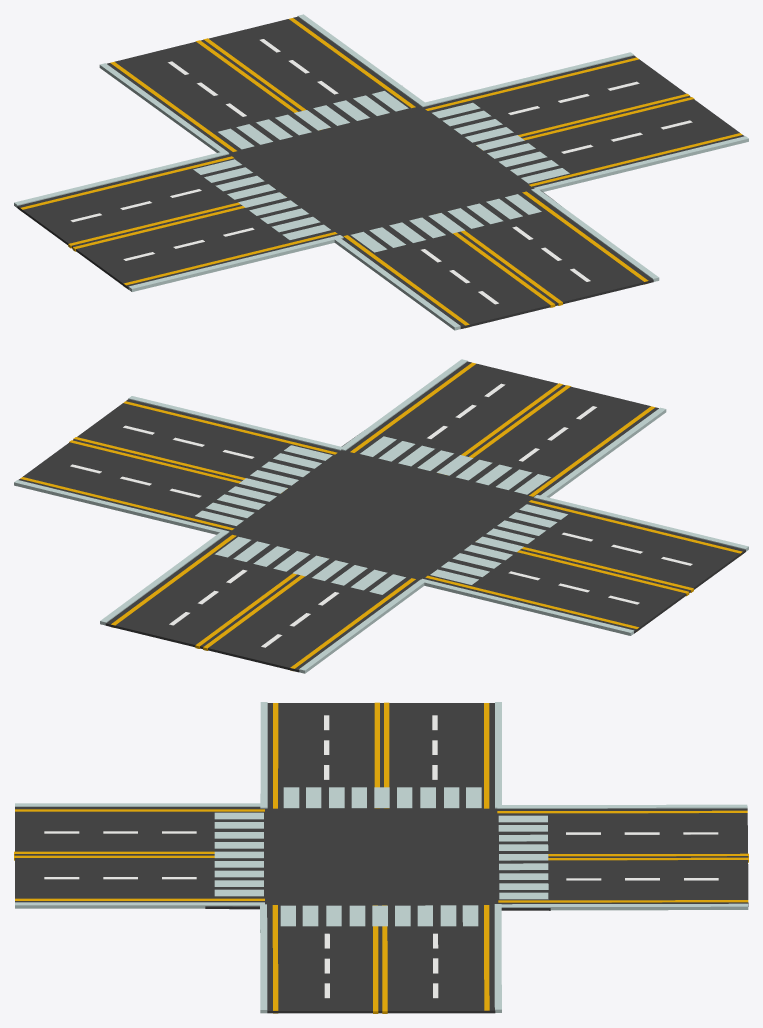
The model's file is intersection.glb.
3 renders of one model, top to bottom at view 1: azimuth 30°, elevation 25°; view 2: azimuth 150°, elevation 25°; view 3: azimuth 270°, elevation 25°, orthographic. The views are drawn at different scales.
Parts seen in each view (by area): view 1: Cube.135, Cube.011, Cube, Cube.005, Cube.054, Cube.082, Cube.013, Cube.003, Cube.056, Cube.081, Cube.017, Cube.002 (+13 smaller); view 2: Cube.135, Cube.011, Cube.005, Cube.054, Cube, Cube.017, Cube.081, Cube.056, Cube.003, Cube.013, Cube.082, Cube.057 (+13 smaller); view 3: Cube.135, Cube.005, Cube.011, Cube, Cube.054, Cube.002, Cube.057, Cube.056, Cube.003, Cube.081, Cube.082, Cube.013 (+17 smaller).
Boxes of the visible parts, x1,y1,x2,y2 form: Cube.135: (202, 87, 556, 236); Cube.011: (17, 154, 337, 289); Cube: (342, 190, 653, 328); Cube.005: (423, 55, 744, 187); Cube.054: (107, 16, 419, 140); Cube.082: (534, 136, 748, 191); Cube.013: (128, 235, 343, 291); Cube.003: (333, 236, 460, 330); Cube.056: (99, 63, 228, 153); Cube.081: (419, 52, 633, 107); Cube.017: (14, 152, 229, 207); Cube.002: (531, 188, 659, 281); Cube.135: (202, 430, 536, 599); Cube.011: (425, 499, 745, 633); Cube.005: (18, 399, 339, 530); Cube.054: (105, 534, 418, 672); Cube: (346, 361, 658, 496); Cube.017: (420, 578, 634, 635); Cube.081: (14, 480, 229, 534); Cube.056: (299, 579, 425, 673); Cube.003: (540, 407, 666, 497); Cube.013: (533, 495, 748, 551); Cube.082: (128, 396, 343, 450); Cube.057: (100, 531, 226, 625); Cube.135: (205, 807, 553, 910); Cube.005: (267, 905, 495, 1013); Cube.011: (267, 703, 494, 808); Cube: (15, 807, 264, 902); Cube.054: (498, 808, 748, 906); Cube.002: (15, 902, 264, 908); Cube.057: (501, 903, 748, 910); Cube.056: (497, 804, 747, 808); Cube.003: (15, 803, 264, 806); Cube.081: (494, 904, 501, 1012); Cube.082: (260, 904, 267, 1013); Cube.013: (260, 702, 267, 808).
Size of the model in its own units: 56.32 by 0.3478 by 56.68.
